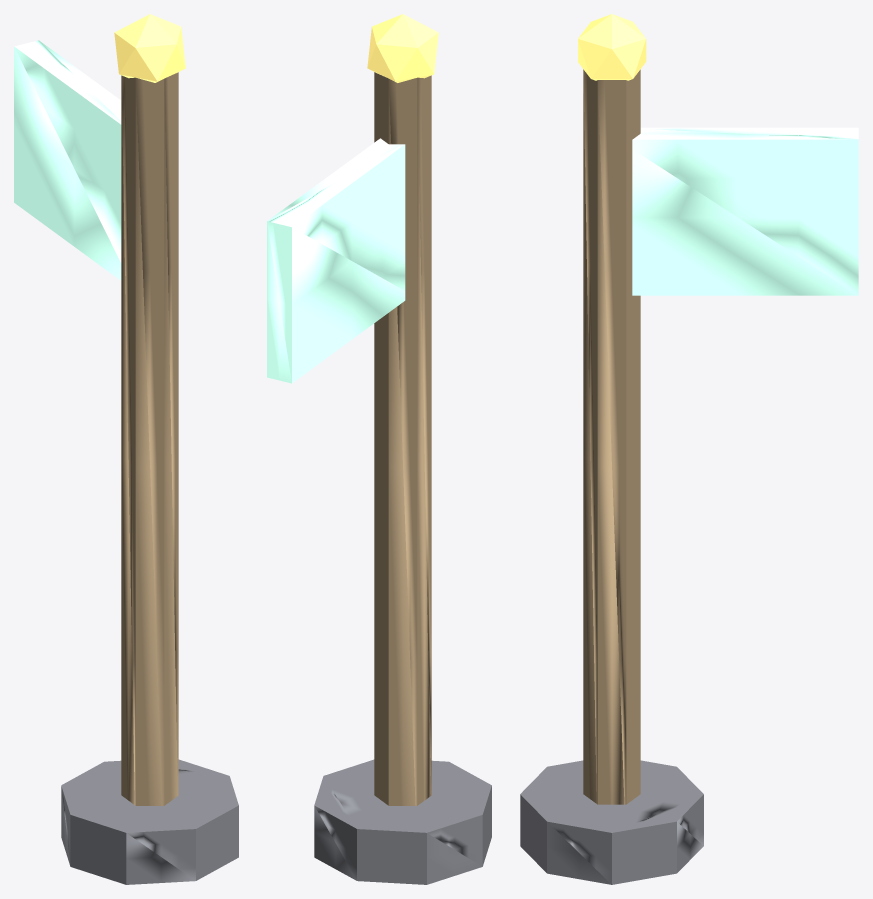
File: flag.glb
The picture shows the model from 3 angles, left to right: view 1: azimuth 30°, elevation 25°; view 2: azimuth 150°, elevation 25°; view 3: azimuth 270°, elevation 25°; orthographic projection.
Parts seen in each view (by area): view 1: FlagPole; view 2: FlagPole; view 3: FlagPole.
Part boxes in pixels (x1,y1,x2,y2): FlagPole: (14,14,238,884); FlagPole: (267,14,491,884); FlagPole: (520,14,858,884).
Bounding box in the file's own units: 0.32 × 1.6 × 0.59.
